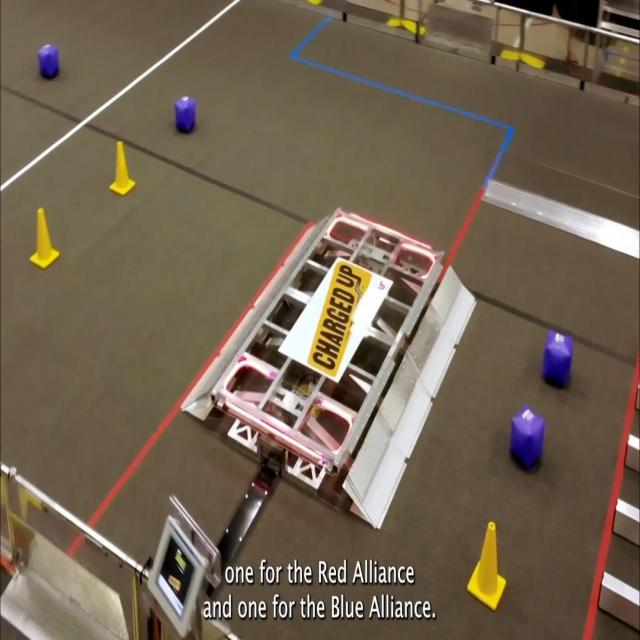frc_cone: (467, 520, 506, 611), (29, 208, 59, 270), (109, 140, 135, 196)
frc_cube: (508, 408, 546, 472), (541, 330, 574, 389), (174, 96, 197, 134), (38, 42, 59, 78)
